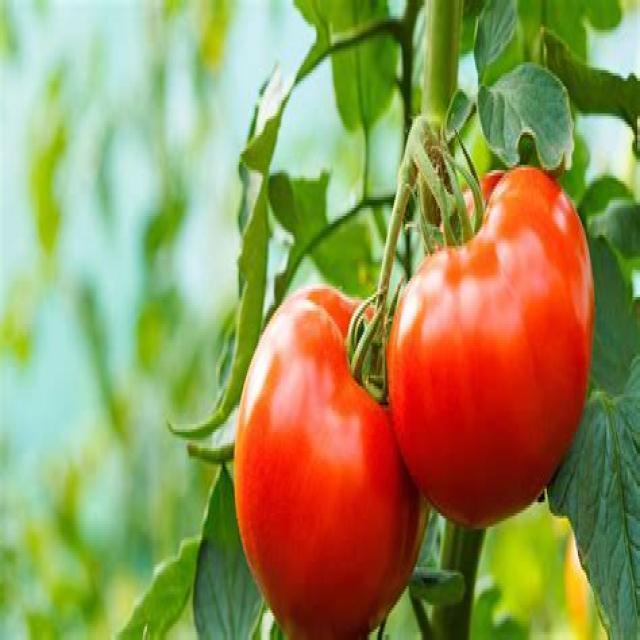Tomato: (375, 174, 602, 536), (210, 273, 421, 640)
